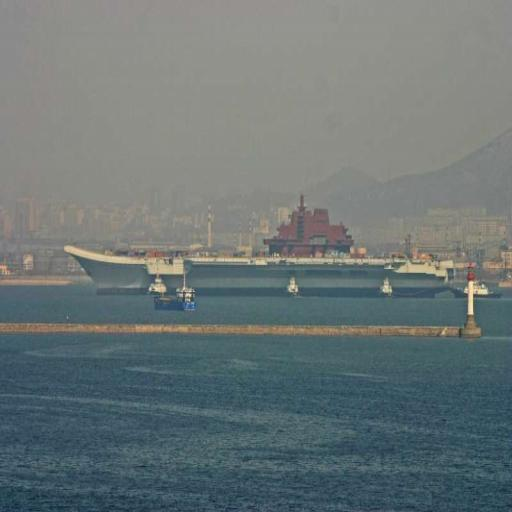Portanaves: (62, 188, 451, 306)
